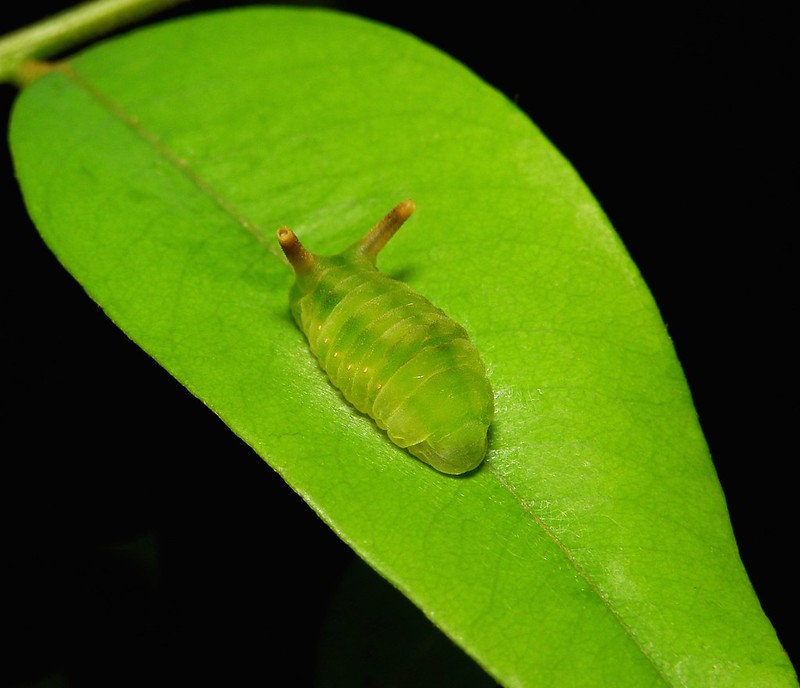Caterpillar: (269, 197, 496, 483)
